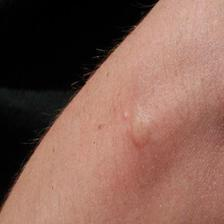Mosquito: (119, 103, 159, 151)
